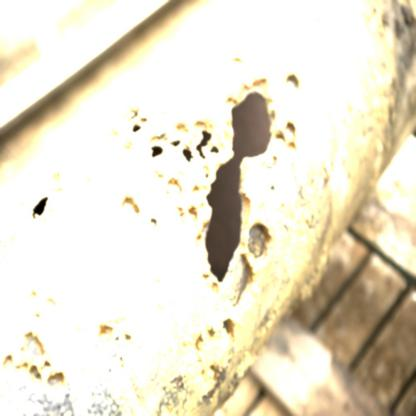burst: (197, 96, 285, 290)
